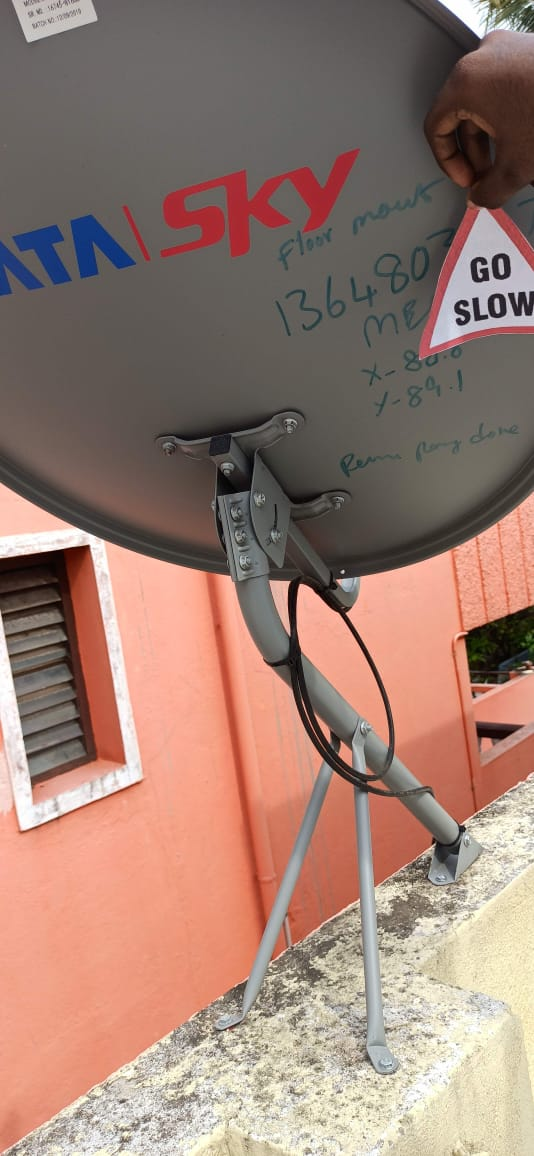GO SLOW: (415, 155, 534, 364)
